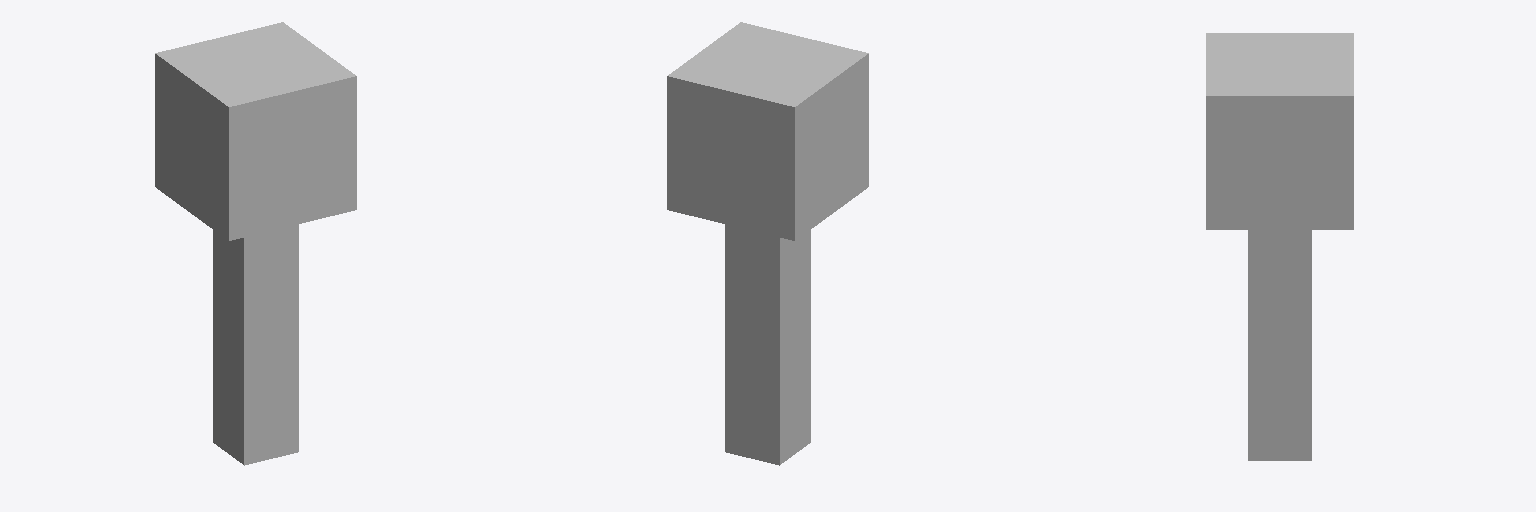
File: Oak_tree (Stage 2).obj
3 renders of one model, left to right at view 1: azimuth 30°, elevation 25°; view 2: azimuth 150°, elevation 25°; view 3: azimuth 270°, elevation 25°, orthographic.
Parts seen in each view (by area): view 1: object 1; view 2: object 1; view 3: object 1.
Part boxes in pixels (x1,y1,x2,y2): object 1: (155,22,356,465); object 1: (667,22,868,465); object 1: (1206,33,1353,460).
Size of the model in its own units: 0.7 by 2 by 0.7.